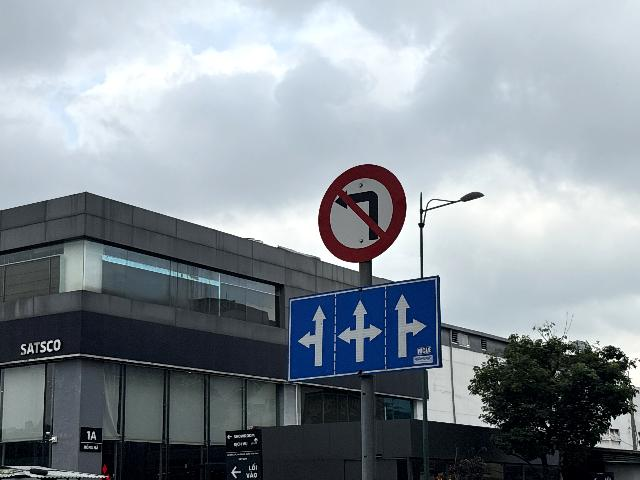cam-re-trai: (317, 163, 407, 263)
